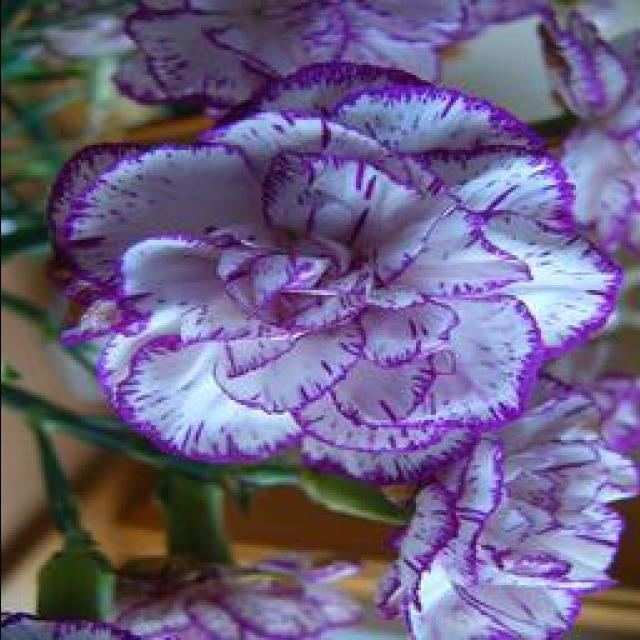carnation: (30, 56, 626, 506)
